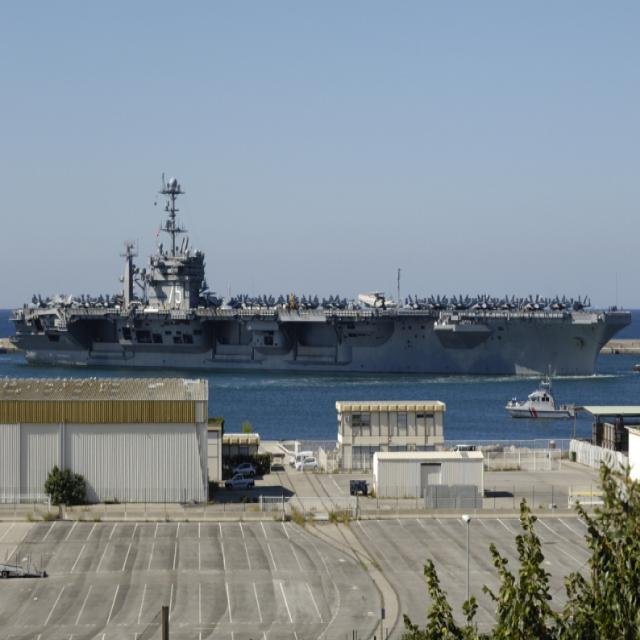Portanaves: (12, 166, 639, 374)
